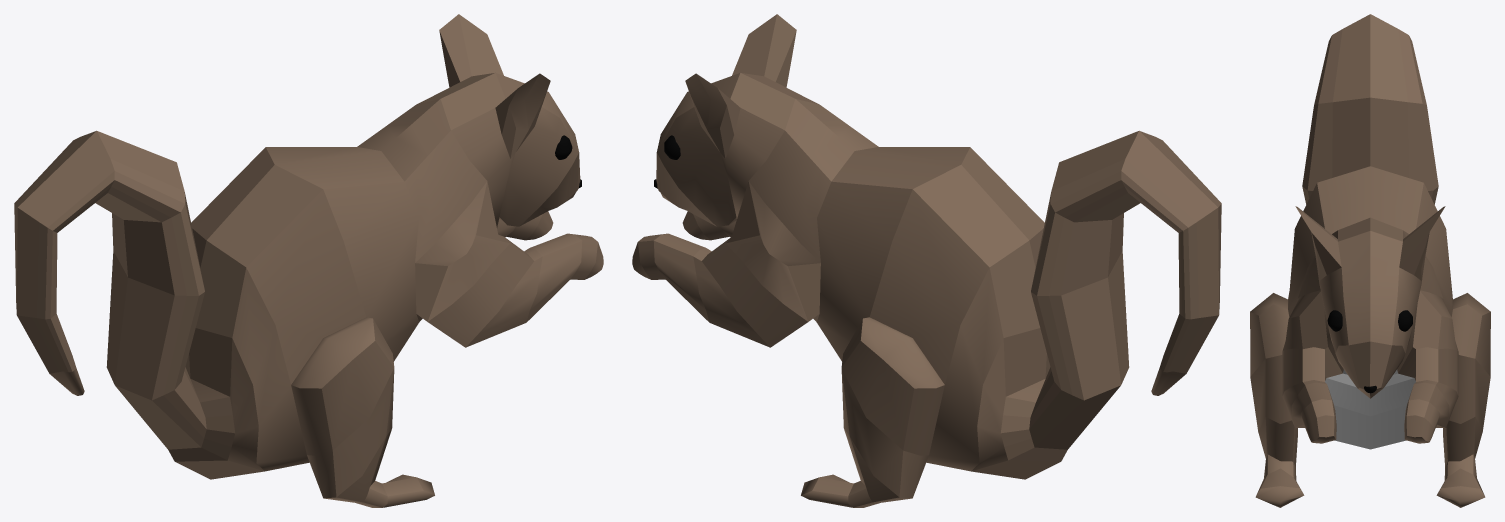
The model's file is squirel.fbx.
The picture shows the model from 3 angles, left to right: view 1: azimuth 30°, elevation 25°; view 2: azimuth 150°, elevation 25°; view 3: azimuth 270°, elevation 25°; orthographic projection. The views are drawn at different scales.
Parts seen in each view (by area): view 1: Squirrel_Model; view 2: Squirrel_Model; view 3: Squirrel_Model.
Part boxes in pixels (<box>): Squirrel_Model: <box>14,14,603,507</box>; Squirrel_Model: <box>632,14,1221,507</box>; Squirrel_Model: <box>1250,14,1490,507</box>.
Size of the model in its own units: 138 by 92.86 by 55.05.
